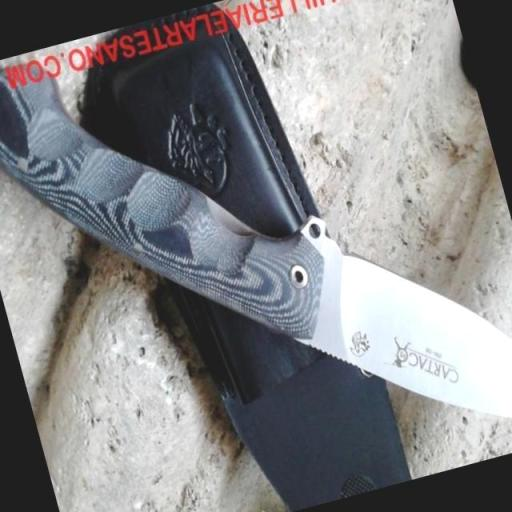knife: (284, 200, 512, 486)
